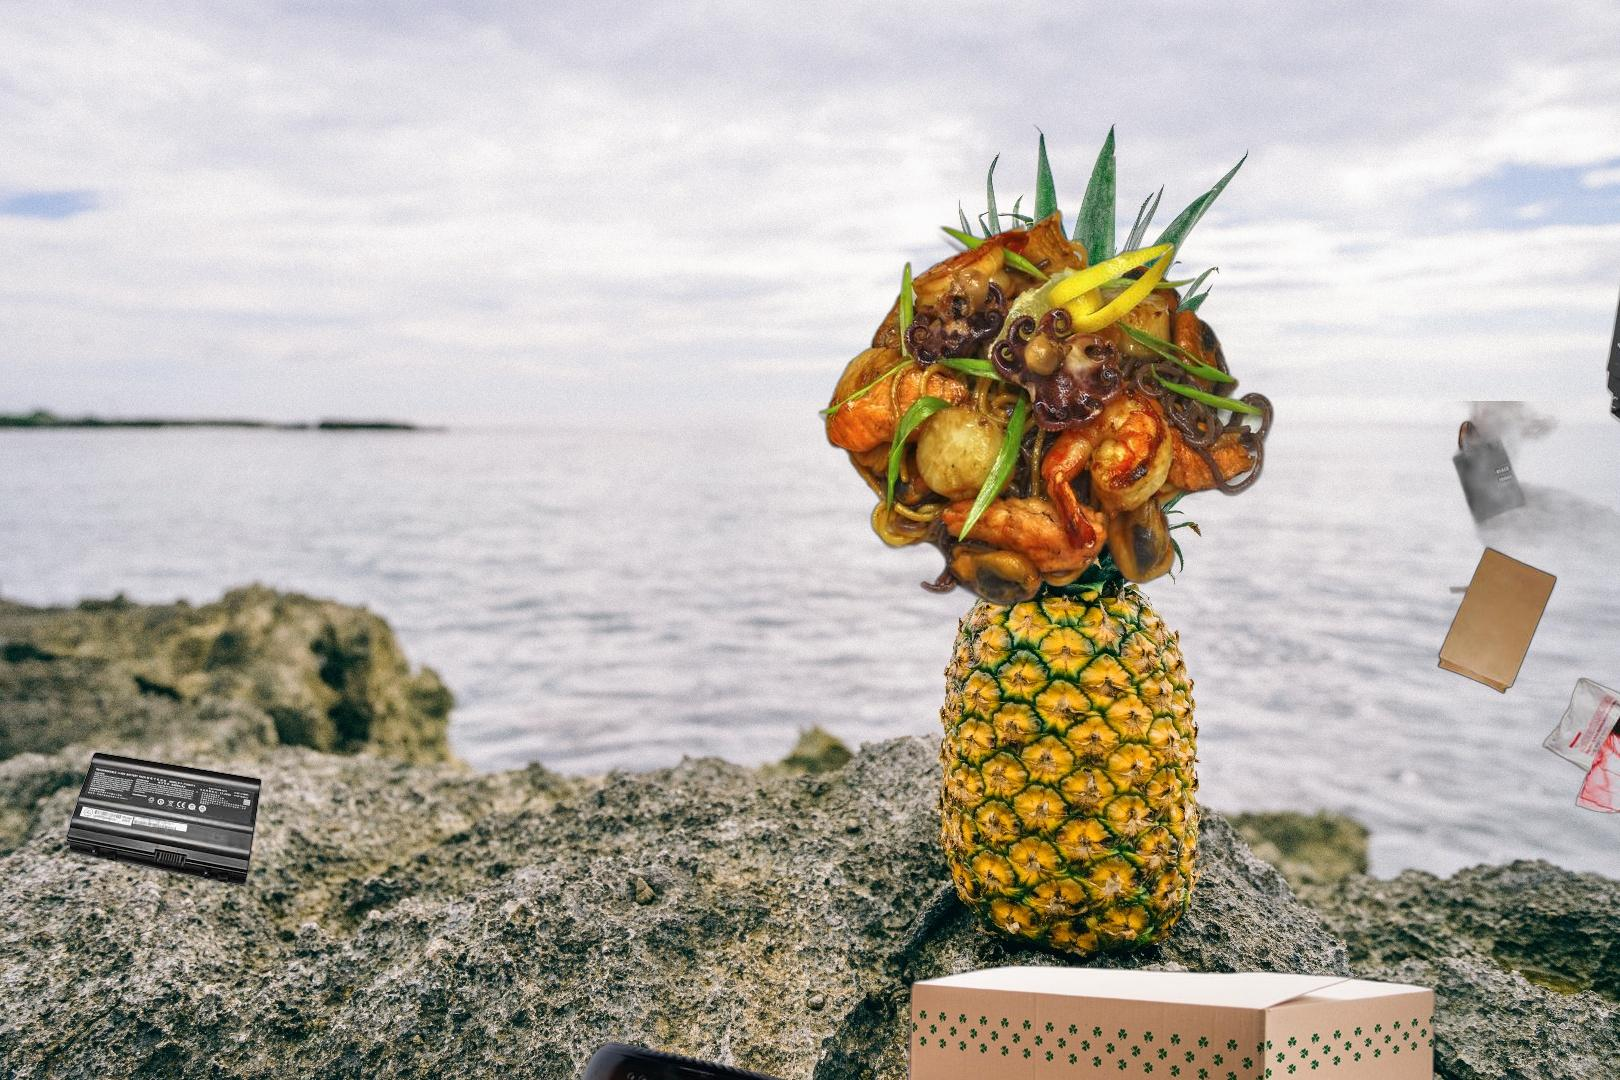battery: (64, 749, 265, 890)
biological: (812, 206, 1279, 609)
clothes: (1603, 127, 1620, 691)
glass: (542, 1039, 809, 1080)
paper-bag: (1432, 401, 1620, 697)
plastic-bag: (1539, 677, 1620, 816)
plastic-bottles: (1207, 988, 1344, 1080)
trashbox-cardboard: (636, 959, 1442, 1080)
